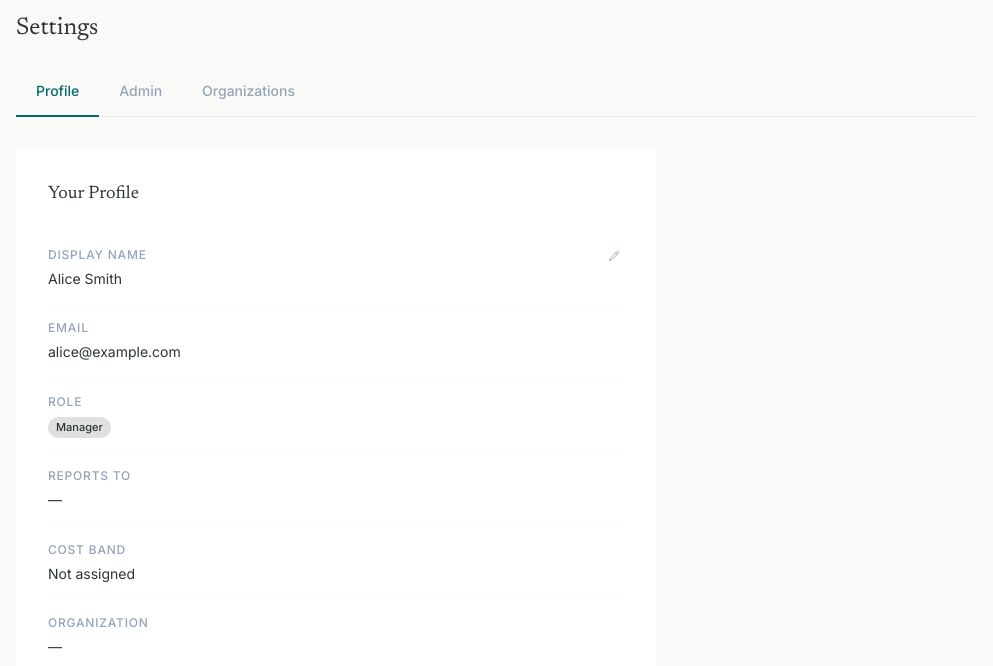
Test: SettingsPage — tab switching › clicking Organizations tab renders Organizations content
Click the button "Organizations": (249, 93) [182, 68, 315, 117]
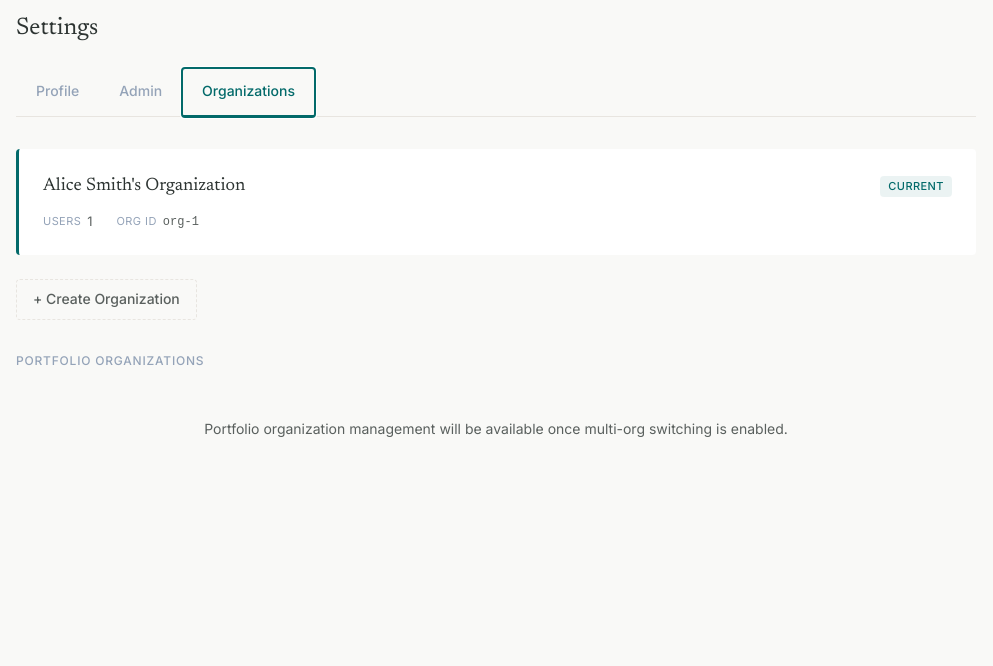
Check: the text "Portfolio Organizations" is shown, box [16, 353, 204, 368]
